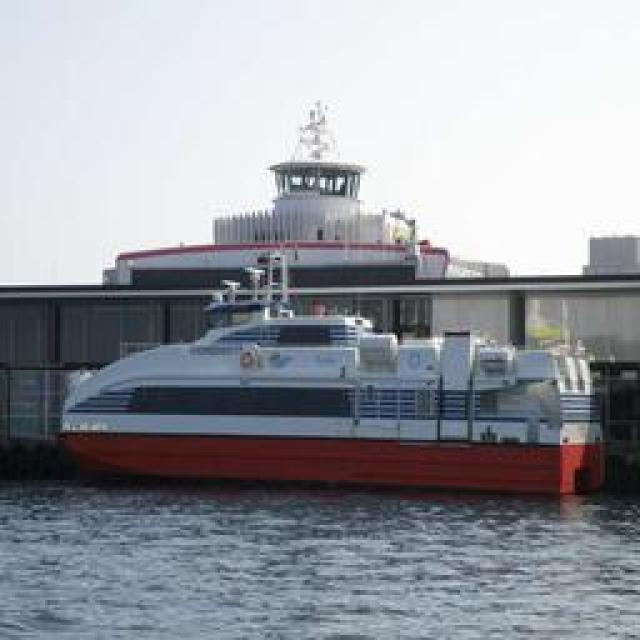ship2: (59, 256, 605, 497)
